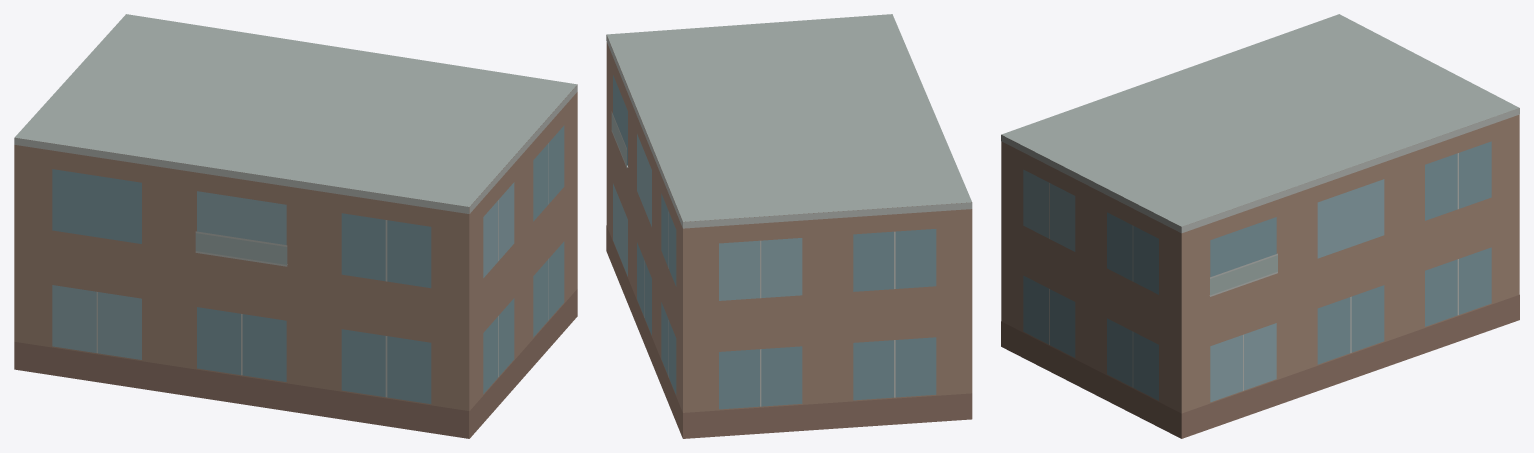
Rendered from survey-upis-33016049.glb.
The picture shows the model from 3 angles, left to right: view 1: azimuth 30°, elevation 25°; view 2: azimuth 150°, elevation 25°; view 3: azimuth 270°, elevation 25°; orthographic projection. The views are drawn at different scales.
Parts seen in each view (by area): view 1: survey-upis-33016049.tmp; view 2: survey-upis-33016049.tmp; view 3: survey-upis-33016049.tmp.
Boxes of the visible parts, x1=… form: survey-upis-33016049.tmp: x1=14, y1=14, x2=577, y2=438; survey-upis-33016049.tmp: x1=606, y1=14, x2=972, y2=438; survey-upis-33016049.tmp: x1=1001, y1=14, x2=1519, y2=438.
Size of the model in its own units: 17.02 by 7.9 by 17.52.
